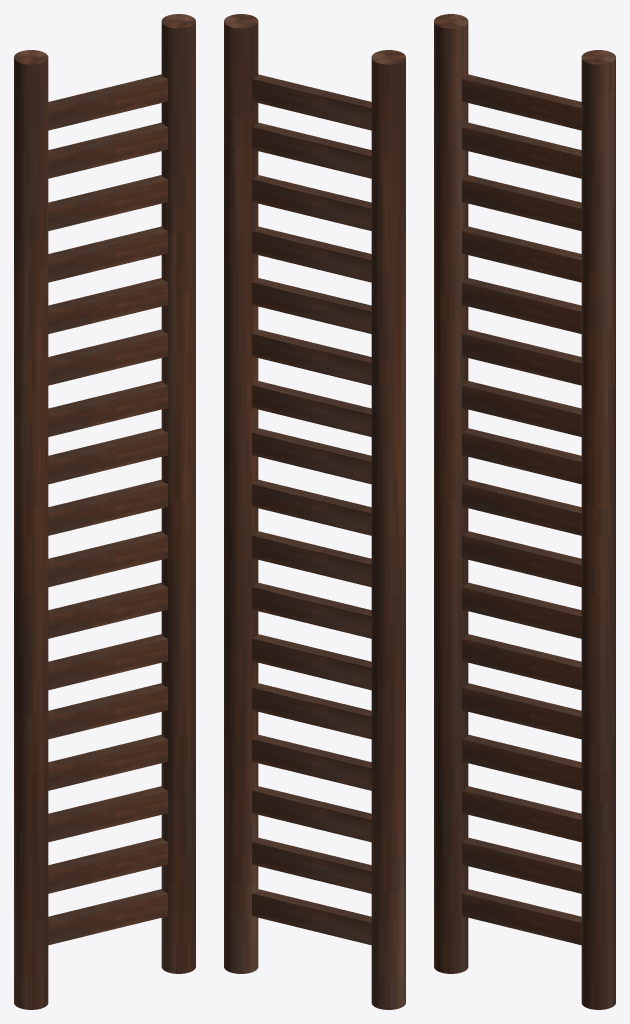
File: Ladder.glb
3 renders of one model, left to right at view 1: azimuth 30°, elevation 25°; view 2: azimuth 150°, elevation 25°; view 3: azimuth 330°, elevation 25°, orthographic.
Visible parts, largest first — view 1: Cylinder; view 2: Cylinder; view 3: Cylinder.
Boxes of the visible parts, x1,y1,x2,y2 form: Cylinder: (14,14,195,1009); Cylinder: (224,14,405,1009); Cylinder: (434,14,615,1009).
Size of the model in its own units: 0.7213 by 3.67 by 0.1213.
Materials: 1 (1 with a texture image).
